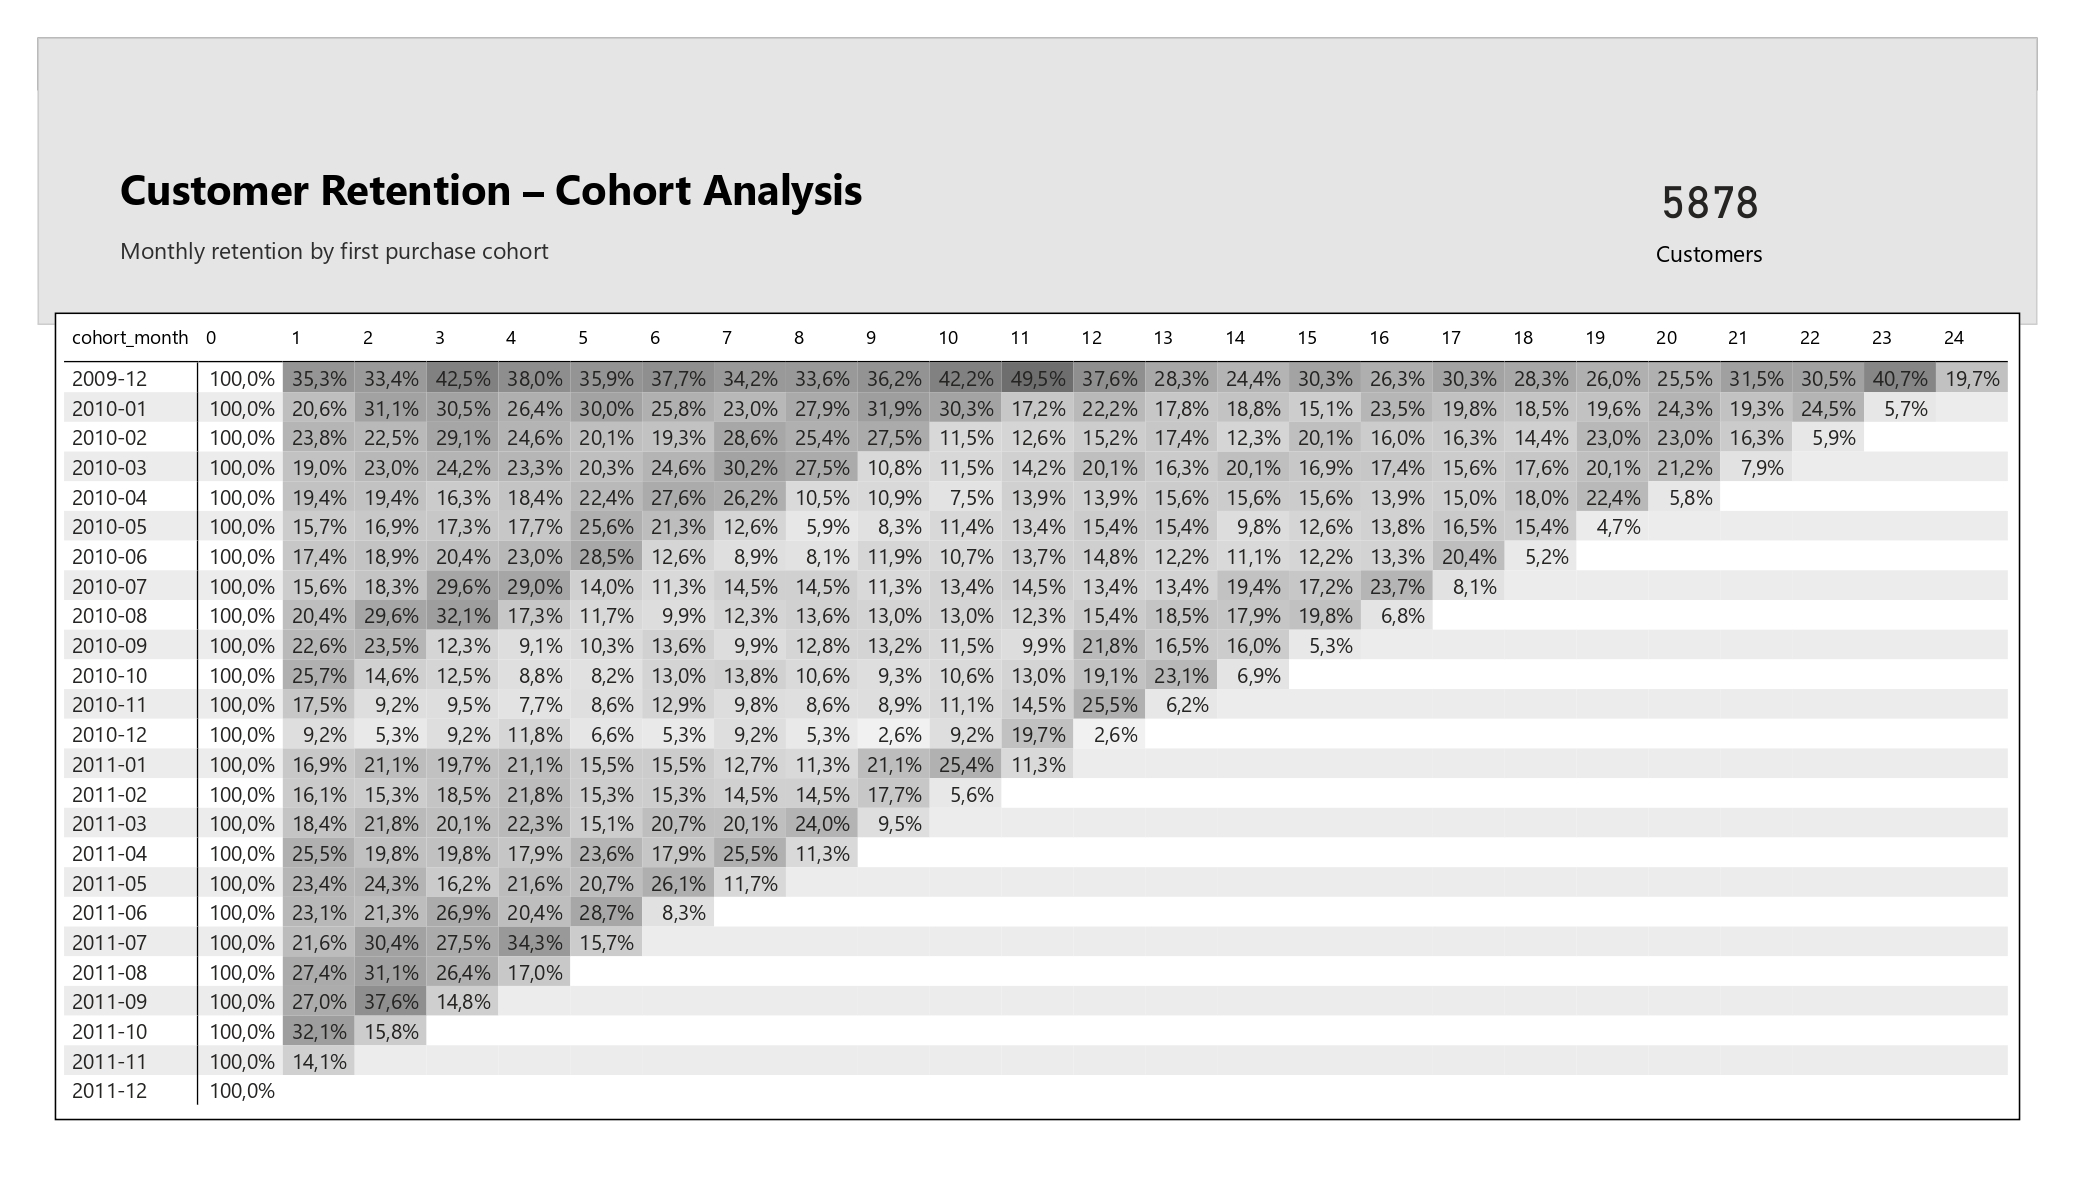

The page's visual inventory and layout, read from the dashboard file:
{"tool":"powerbi","page":{"name":"Customer Retention (Cohort)","canvas":[1280,720],"ordinal":0},"visuals":[{"type":"shape","box":[0,0,1280,183.6],"z":0},{"type":"textbox","box":[48.4,73.3,489.5,53],"z":1000},{"type":"pivotTable","fields":{"Columns":["online_retail cohort_retention_v.month_index"],"Values":["Sum(online_retail cohort_retention_v.retention_rate)"],"Rows":["online_retail cohort_retention_v.cohort_month"]},"box":[10.7,176.4,1258.6,516.4],"z":2000},{"type":"textbox","box":[48.4,121.1,285.3,32.7],"z":3000},{"type":"card","fields":{"Values":["Count(online_retail customer_base_v.customer_id)"]},"box":[939.1,73.3,262.4,80.5],"z":4000}]}

Visuals, with their boxes on the page's 1280x720 design canvas (x1, y1, x2, y2). These are canvas units, not pixel positions in the 2075x1200 screenshot, which may show the page scaled, cropped or inside an application window:
shape: (x1=0, y1=0, x2=1280, y2=184)
textbox: (x1=48, y1=73, x2=538, y2=126)
pivotTable - online_retail cohort_retention_v.month_index x Sum(online_retail cohort_retention_v.retention_rate): (x1=11, y1=176, x2=1269, y2=693)
textbox: (x1=48, y1=121, x2=334, y2=154)
card - Count(online_retail customer_base_v.customer_id): (x1=939, y1=73, x2=1202, y2=154)
